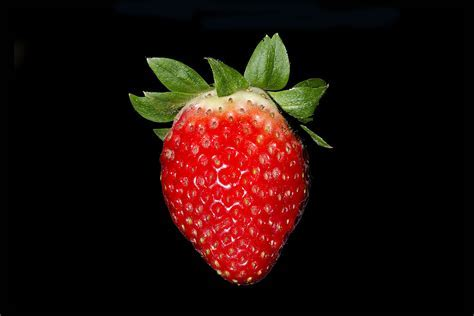strawberry: (124, 50, 330, 288)
